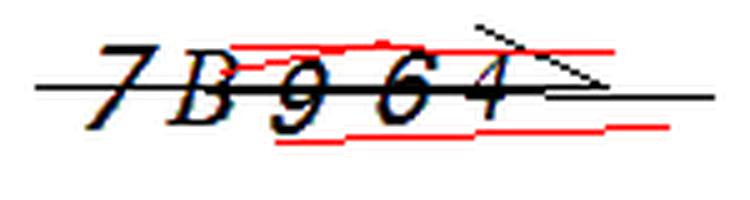4: (455, 45, 533, 131)
6: (367, 42, 454, 134)
7: (73, 36, 170, 136)
9: (261, 52, 337, 145)
B: (163, 41, 245, 135)
